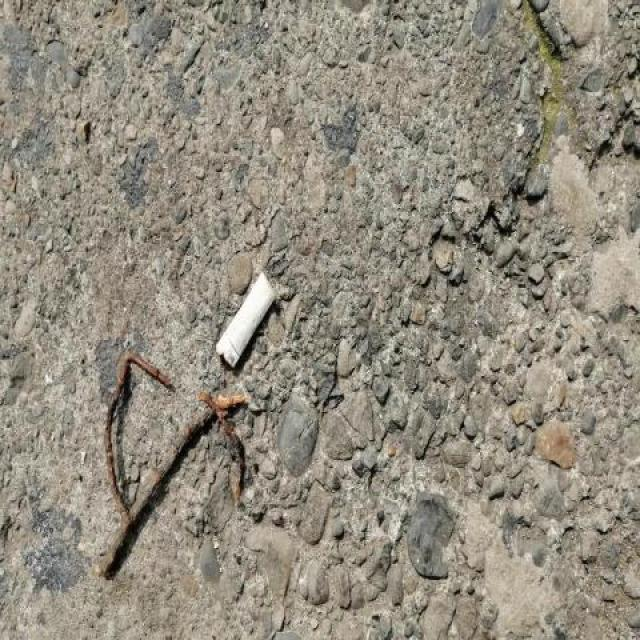non-organic waste: (210, 267, 281, 374)
